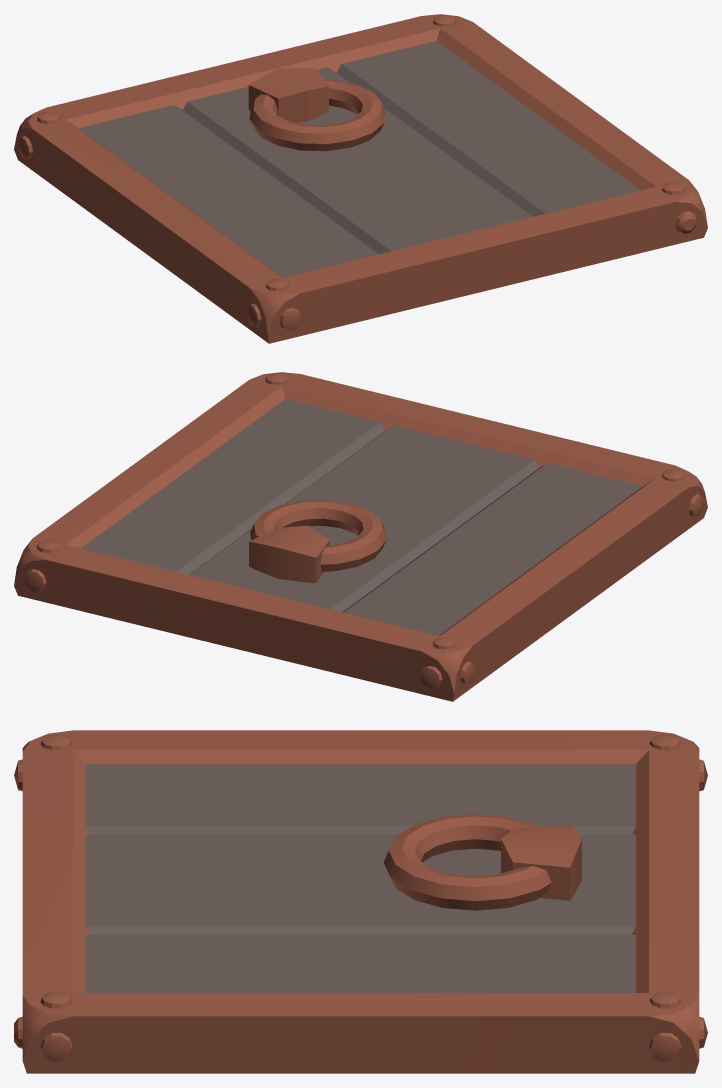
The model's file is trapdoor 1.fbx.
3 renders of one model, top to bottom at view 1: azimuth 30°, elevation 25°; view 2: azimuth 150°, elevation 25°; view 3: azimuth 270°, elevation 25°, orthographic. The views are drawn at different scales.
Visible parts, largest first — view 1: trapdoor; view 2: trapdoor; view 3: trapdoor.
Boxes of the visible parts, x1,y1,x2,y2 form: trapdoor: [14, 14, 707, 343]; trapdoor: [14, 372, 707, 701]; trapdoor: [14, 730, 707, 1073].
Bounding box in the file's own units: 194 × 28.75 × 194.
